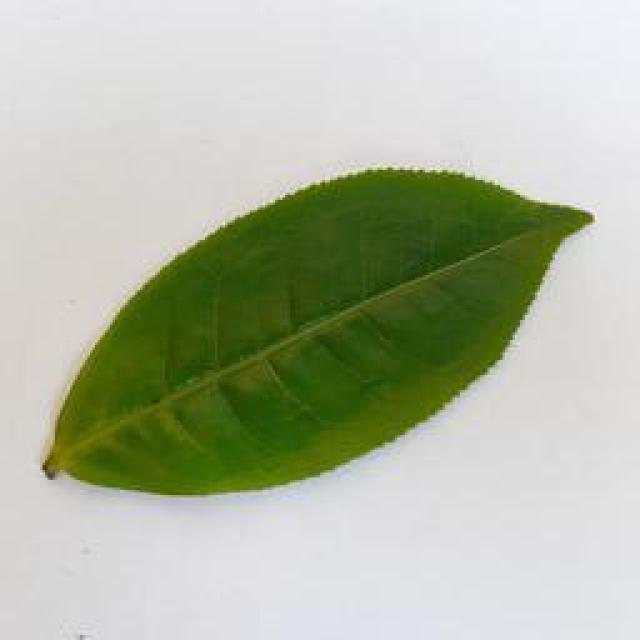Healthy: (30, 132, 606, 540)
